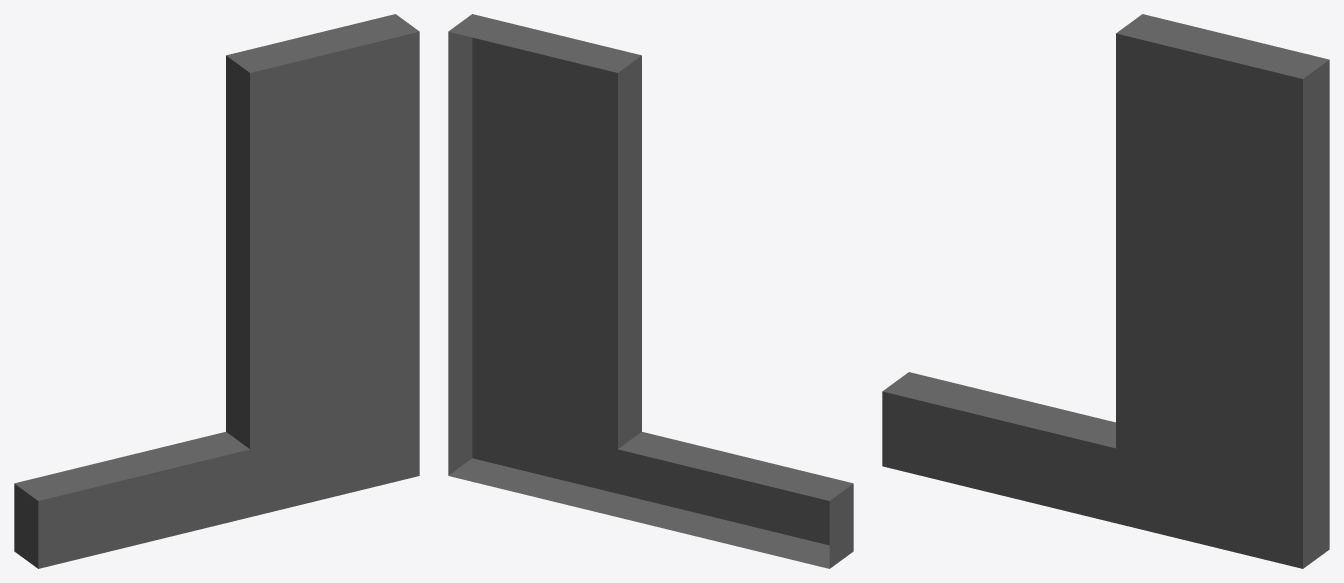
Rendered from Dest_PoisonFactory_Pipe_Wall.FBX.
3 views of the same model, side by side, from view 1: azimuth 30°, elevation 25°; view 2: azimuth 150°, elevation 25°; view 3: azimuth 330°, elevation 25° (orthographic). The views are drawn at different scales.
Visible parts, largest first — view 1: Plane001; view 2: Plane001; view 3: Plane001.
Boxes of the visible parts, x1=… form: Plane001: x1=14, y1=14, x2=419, y2=568; Plane001: x1=448, y1=14, x2=853, y2=568; Plane001: x1=882, y1=14, x2=1329, y2=568.
Bounding box in the file's own units: 56.27 × 62.62 × 6.16.
